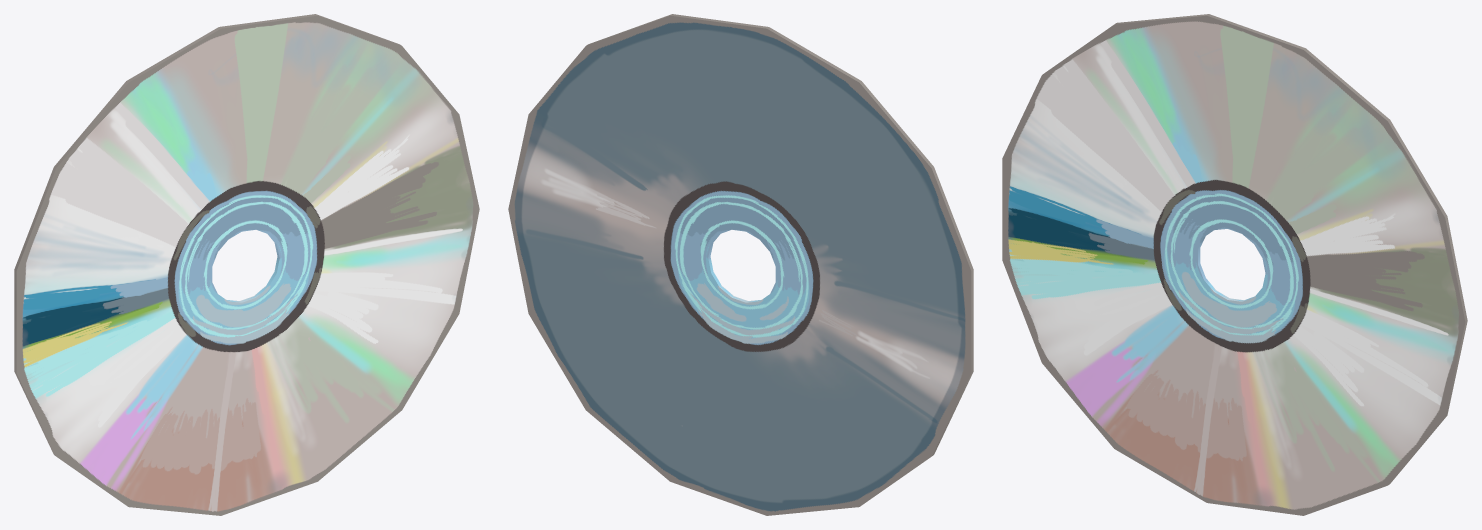
The model's file is lowpoly_cd.glb.
3 renders of one model, left to right at view 1: azimuth 30°, elevation 25°; view 2: azimuth 150°, elevation 25°; view 3: azimuth 330°, elevation 25°, orthographic.
Parts seen in each view (by area): view 1: Object_2; view 2: Object_2; view 3: Object_2.
Part boxes in pixels (<box>): Object_2: <box>14,14,479,515</box>; Object_2: <box>508,14,973,515</box>; Object_2: <box>1002,14,1467,515</box>.
Size of the model in its own units: 15.97 by 16.05 by 0.1354.
1 material, 1 textured.
